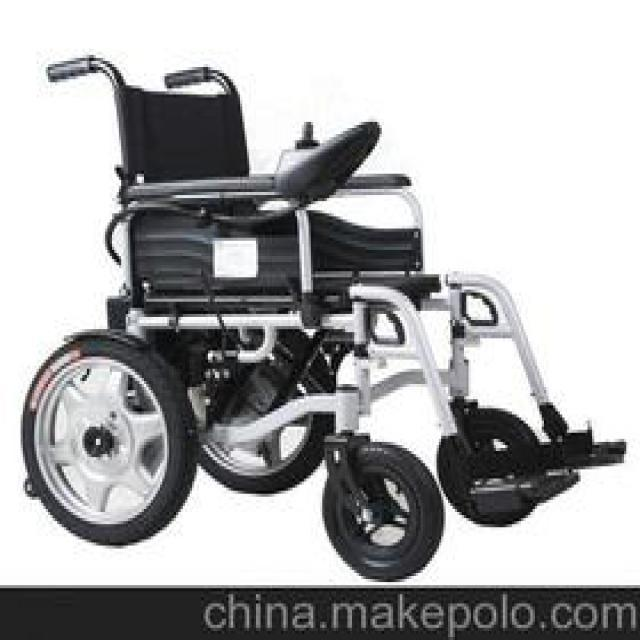wheelchair: (20, 42, 638, 592)
